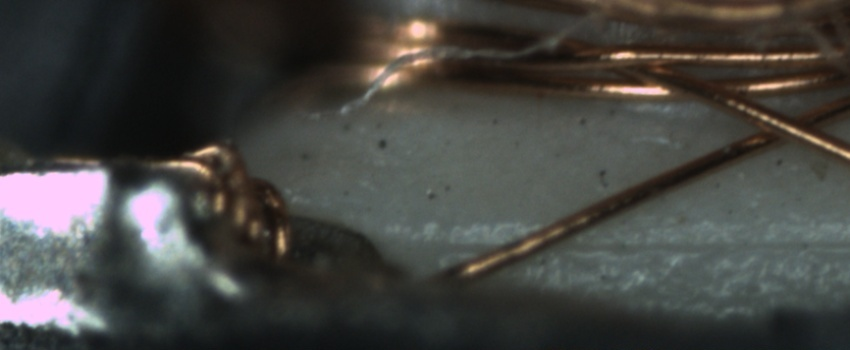CL: (730, 101, 847, 154)
DL: (446, 210, 850, 274)
TE: (41, 138, 300, 264)
